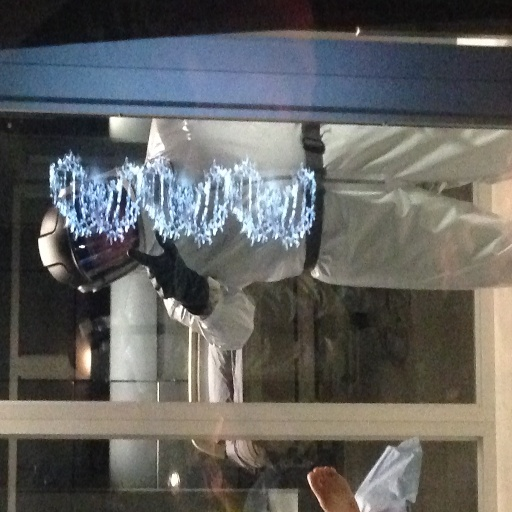hand: (128, 229, 196, 300)
